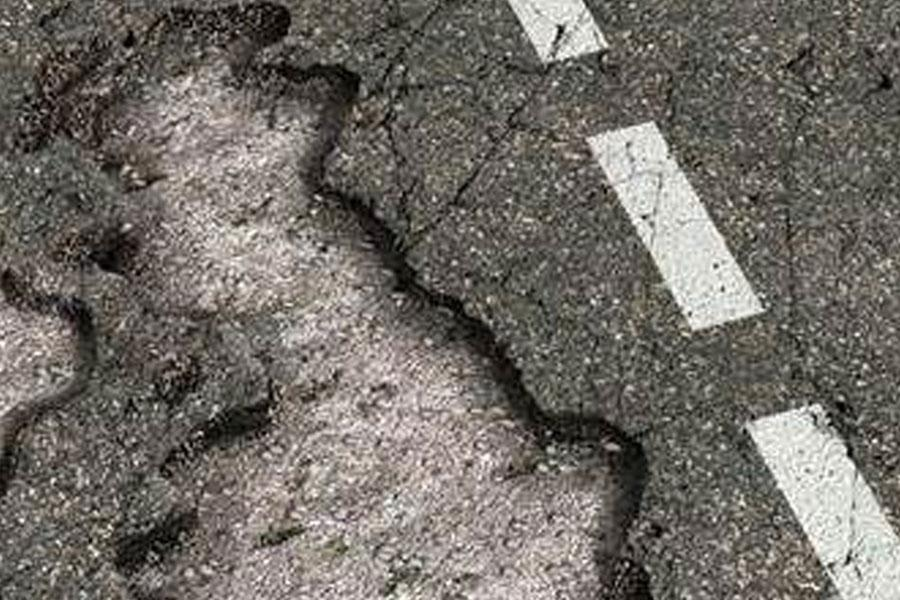Pothole: (4, 47, 821, 597)
